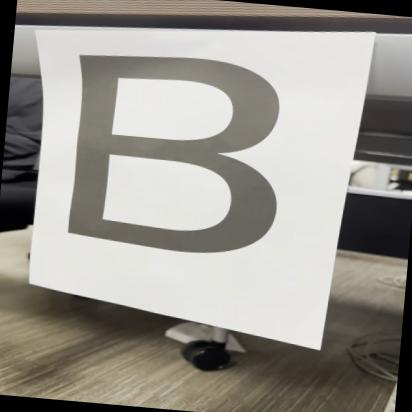seat: (35, 40, 312, 288)
